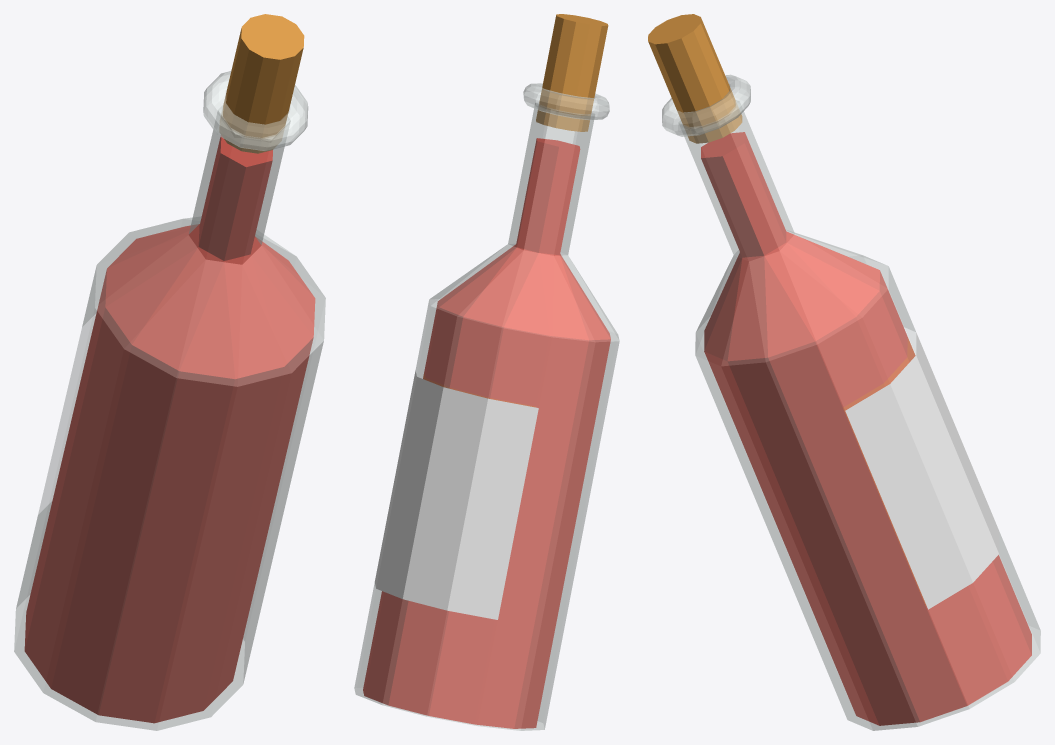
Rendered from Wine bottle.glb.
3 renders of one model, left to right at view 1: azimuth 30°, elevation 25°; view 2: azimuth 150°, elevation 25°; view 3: azimuth 270°, elevation 25°, orthographic. The views are drawn at different scales.
Visible parts, largest first — view 1: group1439957875; view 2: group1439957875; view 3: group1439957875.
Boxes of the visible parts, <box> form: group1439957875: <box>14,14,325,730</box>; group1439957875: <box>354,14,619,730</box>; group1439957875: <box>648,14,1040,730</box>.
Bounding box in the file's own units: 1.58 × 5.66 × 2.94.
